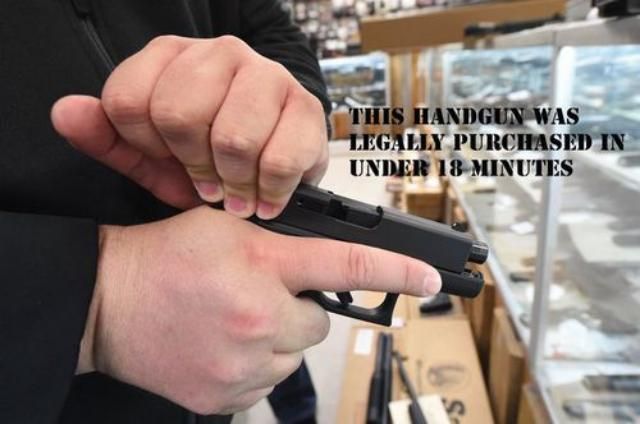handgun: (194, 159, 492, 333)
